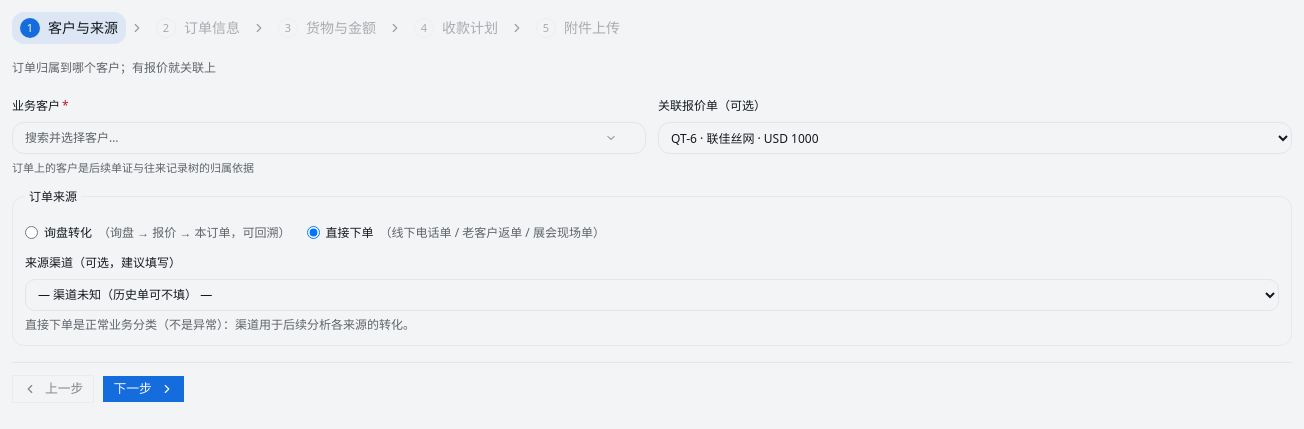
建单来源 › 询盘转化但没选询盘：本地拦下并解释，不发请求
The width and height of the screenshot is (1304, 429).
Select "QT-6 · 联佳丝网 · USD 1000" in the dropdown named "关联报价单" at point(975, 138), box [658, 122, 1292, 154]
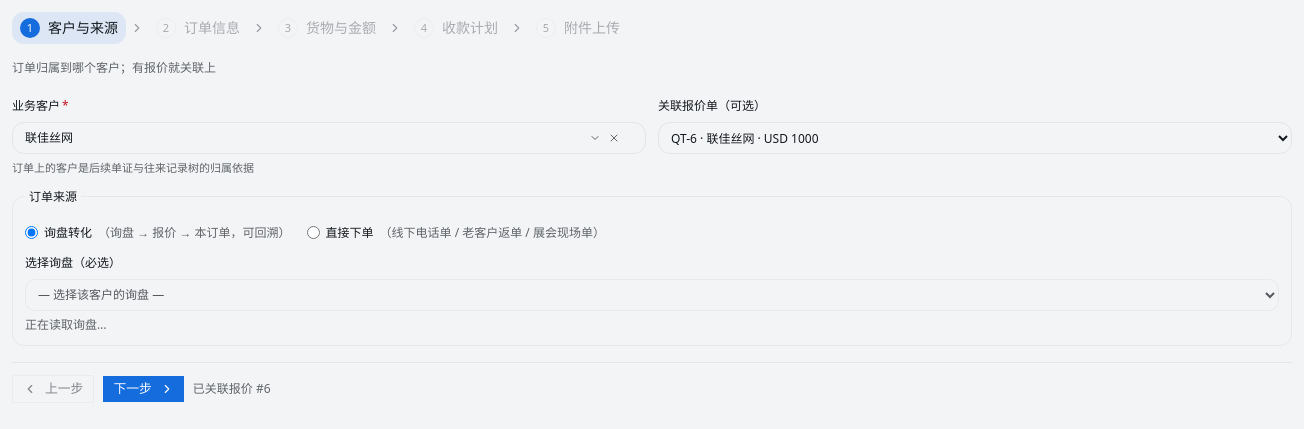
Select "— 选择该客户的询盘 —" in the dropdown named "选择询盘" at point(652, 294), box [25, 278, 1279, 310]
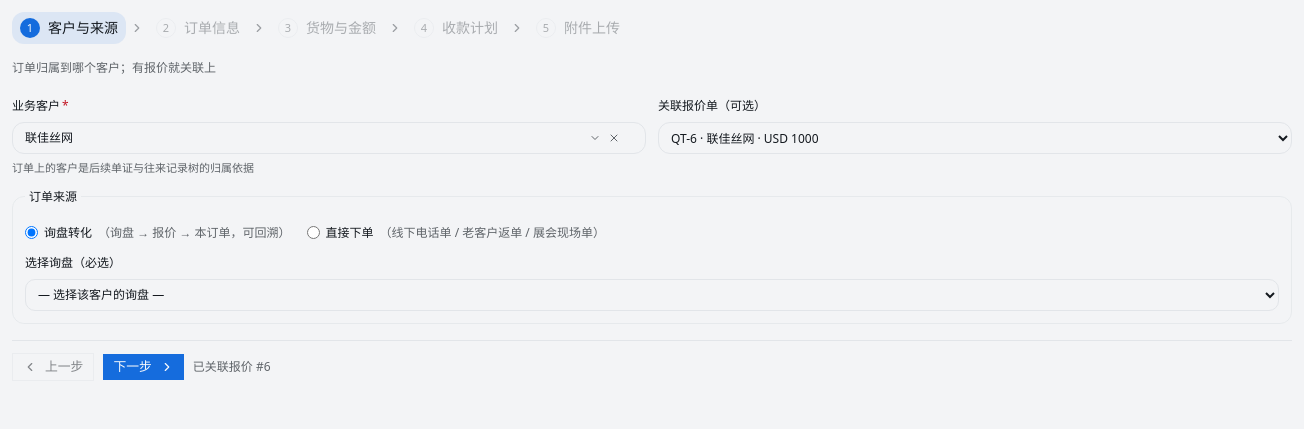
Click the button "下一步".
click(144, 366)  # box [102, 352, 185, 380]
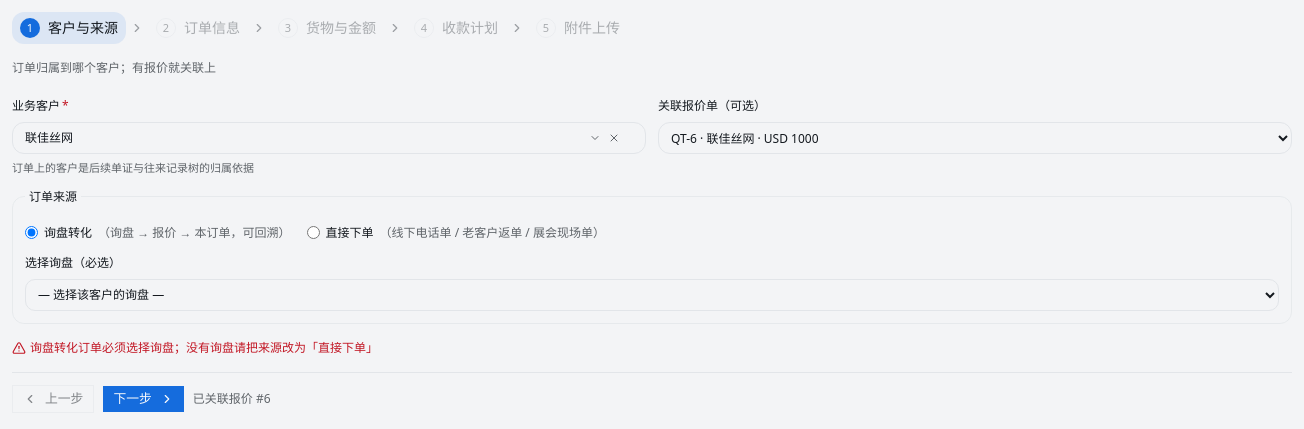
Expected: the text "直接下单" is shown, [326, 224, 374, 240]
Result: the text "必须选择询盘" is shown at [30, 338, 378, 356]
